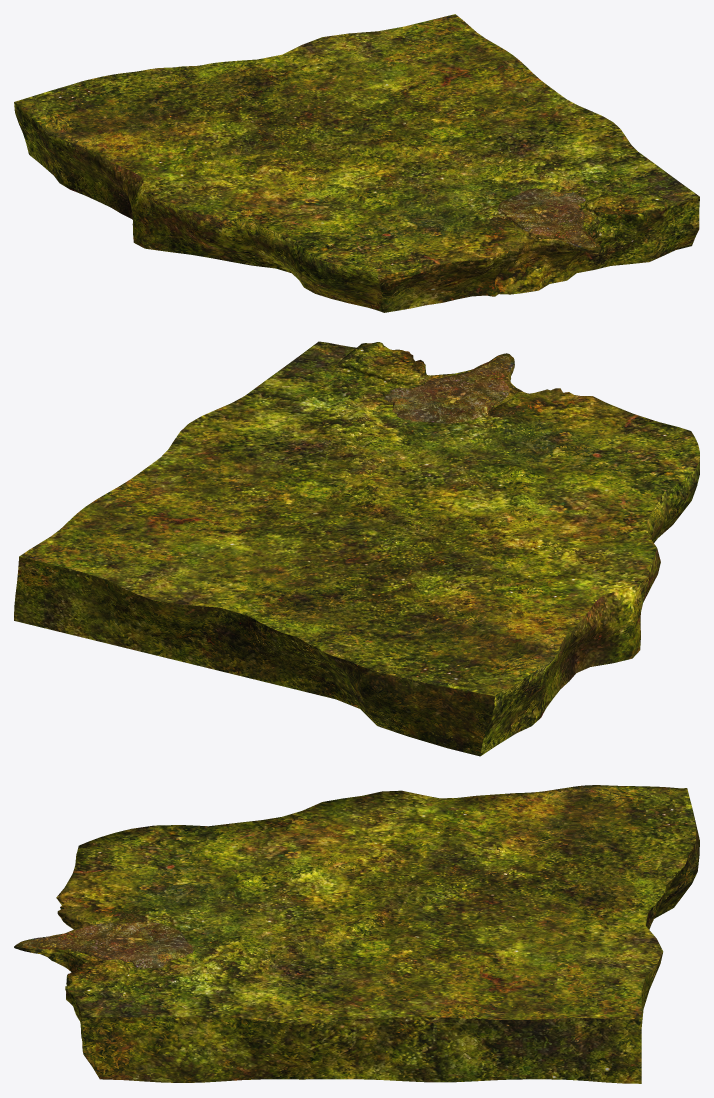
Rendered from GraceMap.obj.
3 views of the same model, one above another, from view 1: azimuth 30°, elevation 25°; view 2: azimuth 150°, elevation 25°; view 3: azimuth 270°, elevation 25° (orthographic). The views are drawn at different scales.
Parts seen in each view (by area): view 1: dimian20, dimian02; view 2: dimian20, dimian02; view 3: dimian20, dimian02.
Part boxes in pixels (left/top/right/bottom): dimian20: left=14, top=14, right=699, bottom=312; dimian02: left=497, top=188, right=596, bottom=247; dimian20: left=14, top=341, right=699, bottom=756; dimian02: left=384, top=356, right=510, bottom=423; dimian20: left=14, top=785, right=699, bottom=1083; dimian02: left=22, top=922, right=193, bottom=969.
Bounding box in the file's own units: 8796 × 1185 × 10642.
